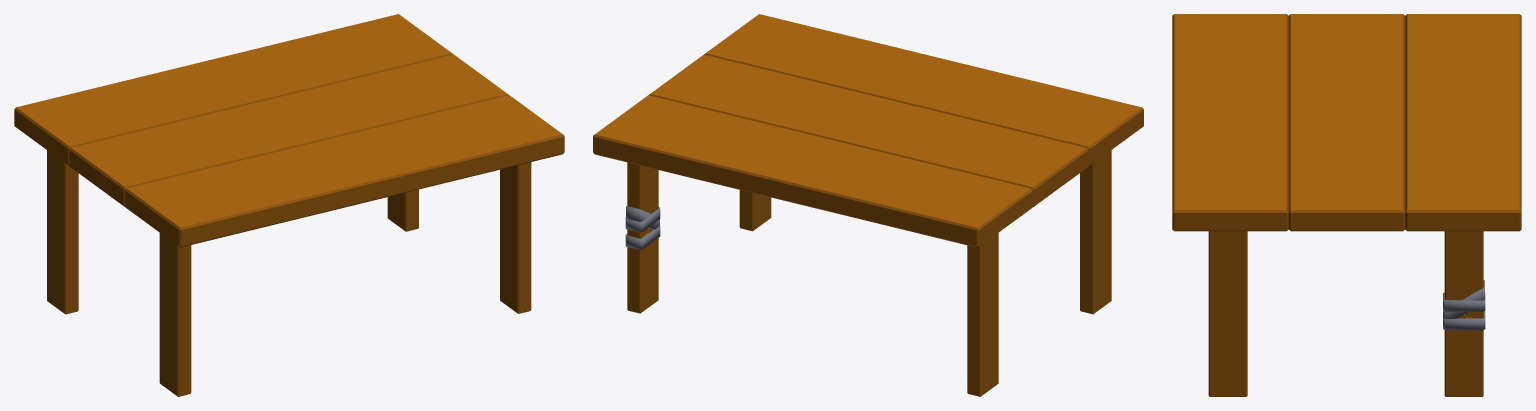
The model's file is table.glb.
3 views of the same model, side by side, from view 1: azimuth 30°, elevation 25°; view 2: azimuth 150°, elevation 25°; view 3: azimuth 270°, elevation 25° (orthographic). The views are drawn at different scales.
Parts seen in each view (by area): view 1: table-body-solid, ramp, broken2; view 2: table-body-solid, ramp, broken2, broken1, tape; view 3: table-body-solid, ramp, broken2, broken1, tape.
Boxes of the visible parts, x1,y1,x2,y2 form: table-body-solid: [47, 54, 564, 396]; ramp: [14, 14, 453, 166]; broken2: [387, 189, 418, 231]; table-body-solid: [649, 14, 1143, 396]; ramp: [593, 95, 1032, 247]; broken2: [627, 228, 658, 313]; broken1: [627, 162, 658, 238]; tape: [625, 206, 660, 249]; table-body-solid: [1172, 14, 1405, 396]; ramp: [1405, 14, 1521, 231]; broken2: [1444, 314, 1483, 396]; broken1: [1444, 231, 1483, 317]; tape: [1443, 280, 1485, 330].
Size of the model in its own units: 2.11 by 0.9699 by 1.58.
